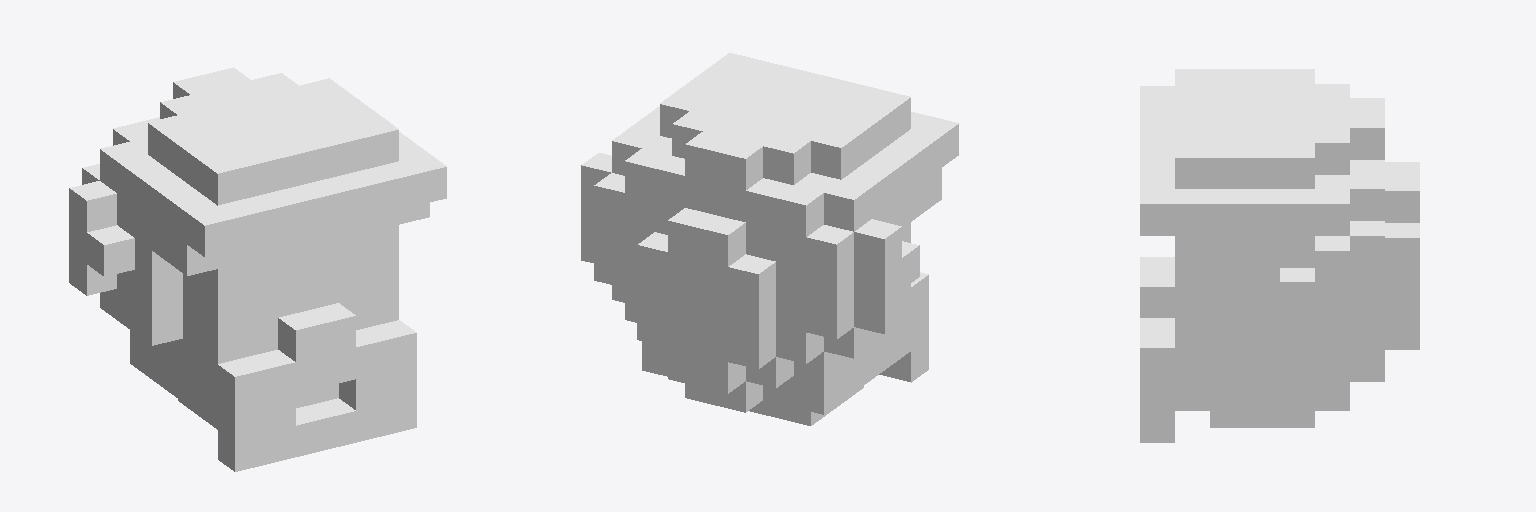
The model's file is gladiator-1.obj.
3 views of the same model, side by side, from view 1: azimuth 30°, elevation 25°; view 2: azimuth 150°, elevation 25°; view 3: azimuth 270°, elevation 25° (orthographic).
Parts seen in each view (by area): view 1: object 1; view 2: object 1; view 3: object 1.
Boxes of the visible parts, x1=… form: object 1: x1=69, y1=67, x2=446, y2=471; object 1: x1=581, y1=53, x2=958, y2=425; object 1: x1=1140, y1=69, x2=1419, y2=442.
Size of the model in its own units: 1 by 0.9 by 0.8.